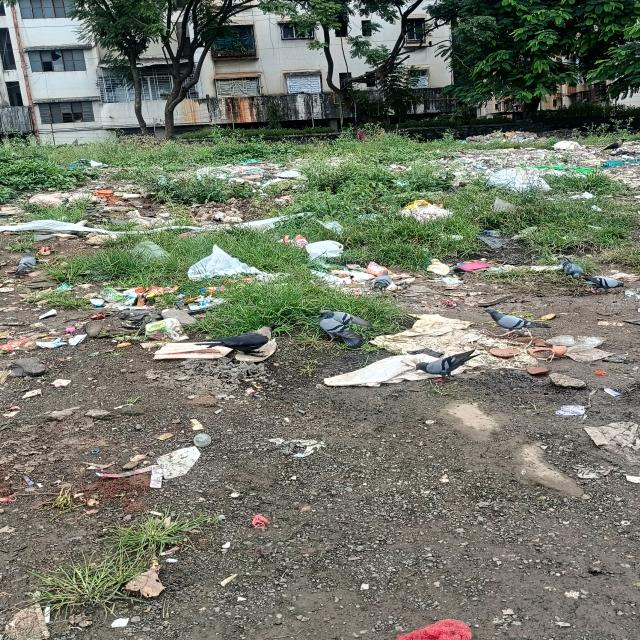garbage: (33, 265, 235, 368), (336, 309, 545, 399), (37, 165, 303, 221), (294, 242, 564, 296), (455, 149, 574, 192)
